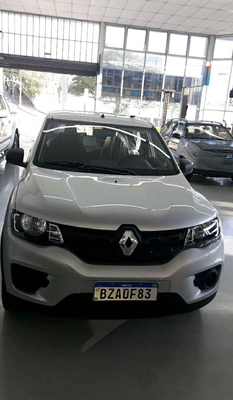Frontal Veiculo: (4, 116, 226, 315)
